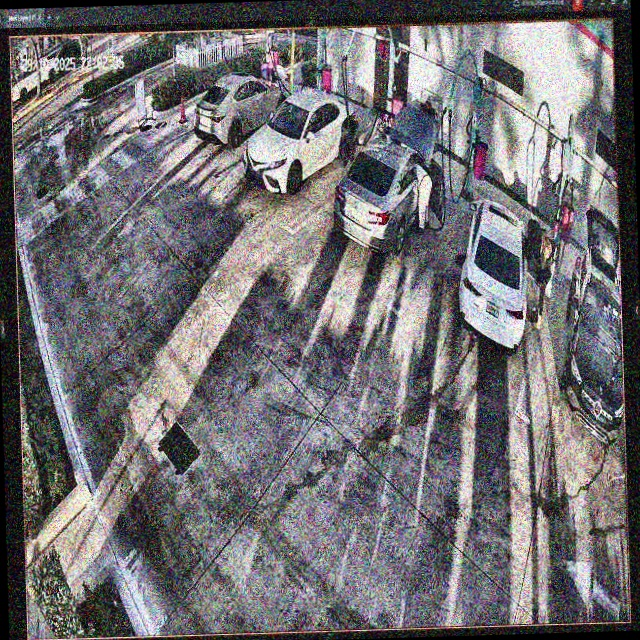Car: (331, 105, 438, 256), (245, 90, 360, 194), (459, 198, 530, 353), (193, 71, 291, 145)
